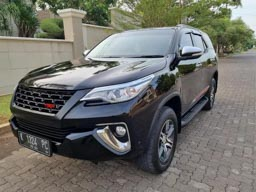plat: (17, 131, 50, 158)
